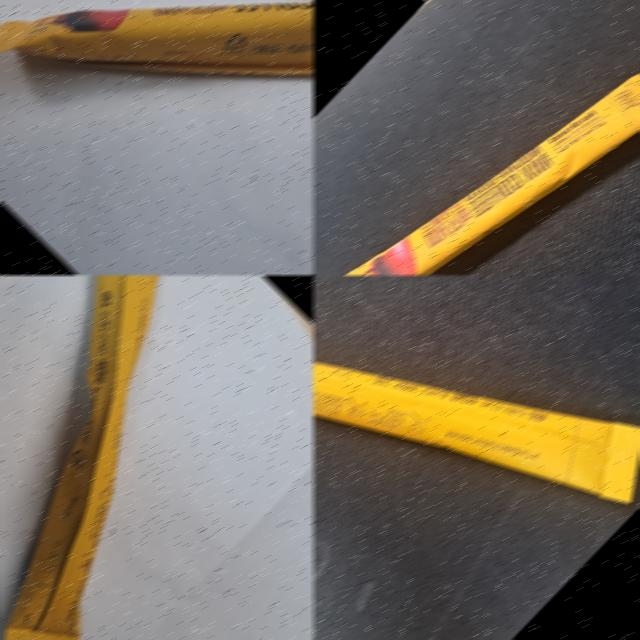mix_coffee: (312, 275, 640, 640), (0, 275, 313, 640), (314, 6, 640, 275), (0, 0, 313, 275)
